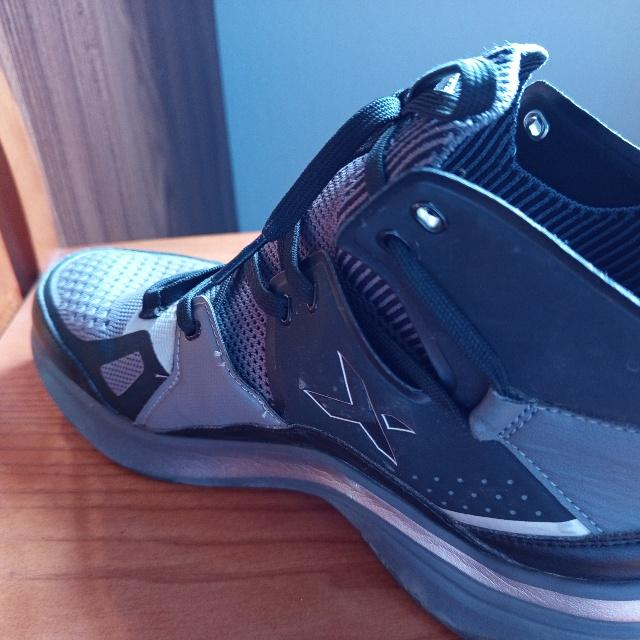broken: (211, 348, 229, 368)
